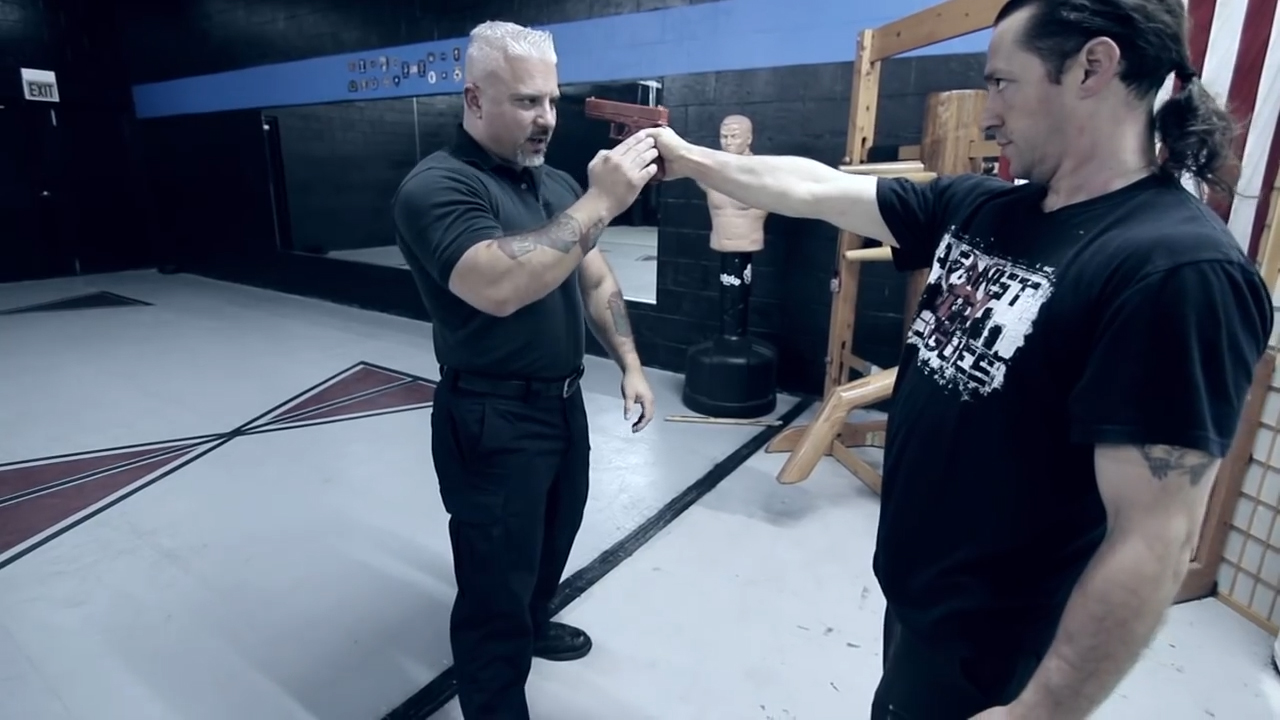pistol: (583, 95, 671, 182)
